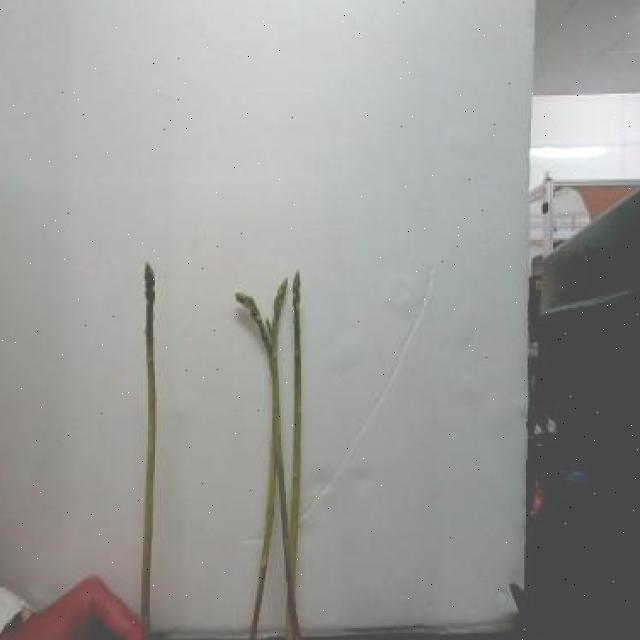aspargus: (140, 265, 160, 638), (286, 272, 304, 640)
